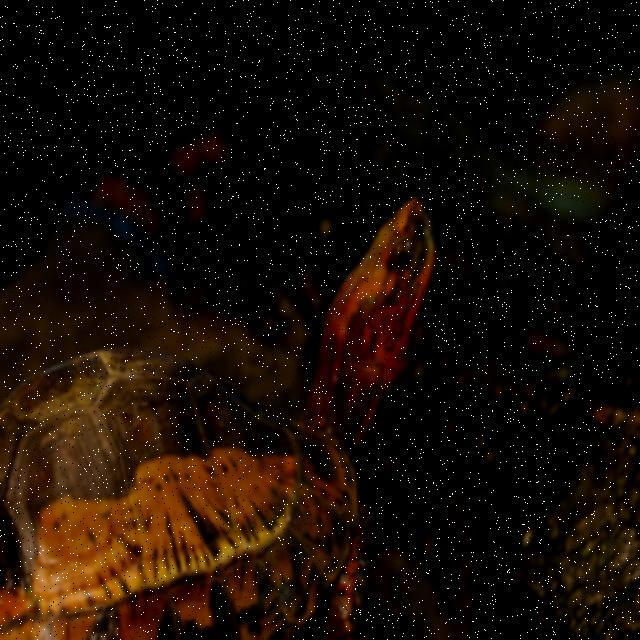tortoise: (27, 191, 447, 613)
